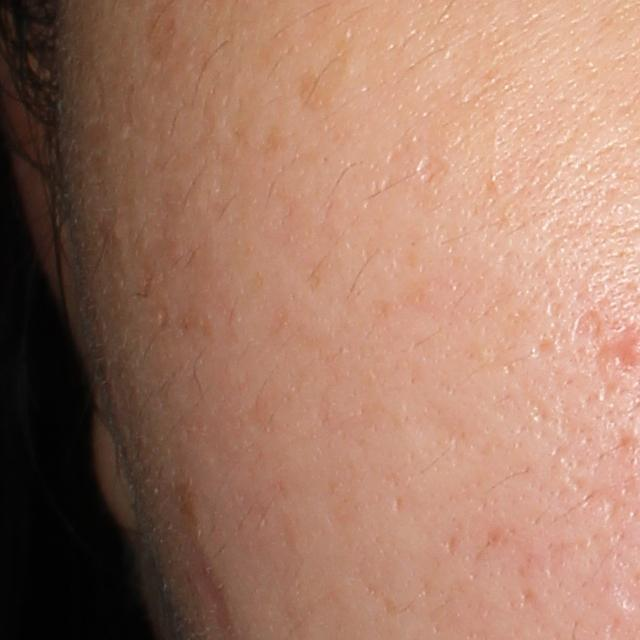atrophic_scar: (404, 398, 520, 482), (570, 309, 604, 348), (414, 150, 444, 185)
melasma: (299, 31, 360, 117)
